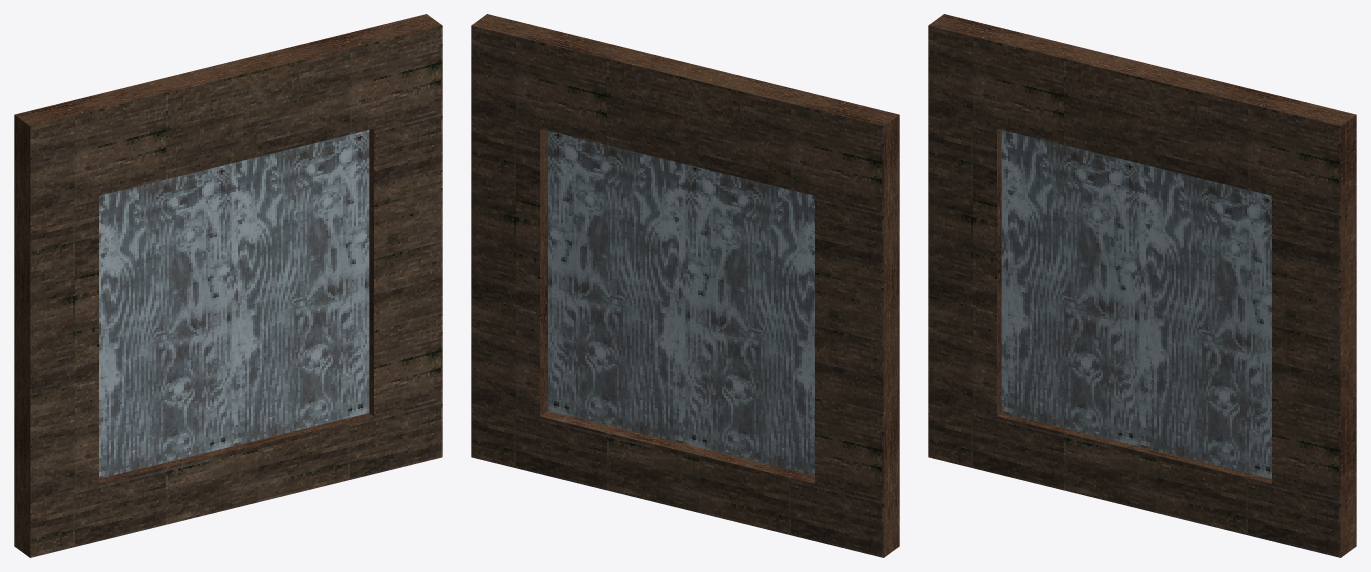
Rendered from window_double_blocked.glb.
3 views of the same model, side by side, from view 1: azimuth 30°, elevation 25°; view 2: azimuth 150°, elevation 25°; view 3: azimuth 330°, elevation 25° (orthographic).
Parts seen in each view (by area): view 1: window_double_blocked2, window_block_002, window_block_001; view 2: window_double_blocked2, window_block_002, window_block_001; view 3: window_double_blocked2, window_block_001, window_block_002.
Boxes of the visible parts, x1=… form: window_double_blocked2: x1=14, y1=14, x2=442, y2=557; window_block_002: x1=231, y1=130, x2=369, y2=446; window_block_001: x1=99, y1=163, x2=231, y2=478; window_double_blocked2: x1=471, y1=14, x2=899, y2=557; window_block_002: x1=548, y1=130, x2=685, y2=443; window_block_001: x1=685, y1=164, x2=814, y2=475; window_double_blocked2: x1=928, y1=14, x2=1356, y2=557; window_block_001: x1=1001, y1=130, x2=1139, y2=446; window_block_002: x1=1139, y1=163, x2=1271, y2=478.
Bounding box in the file's own units: 3 × 3 × 0.2.
Materials: 3 (3 with a texture image).
